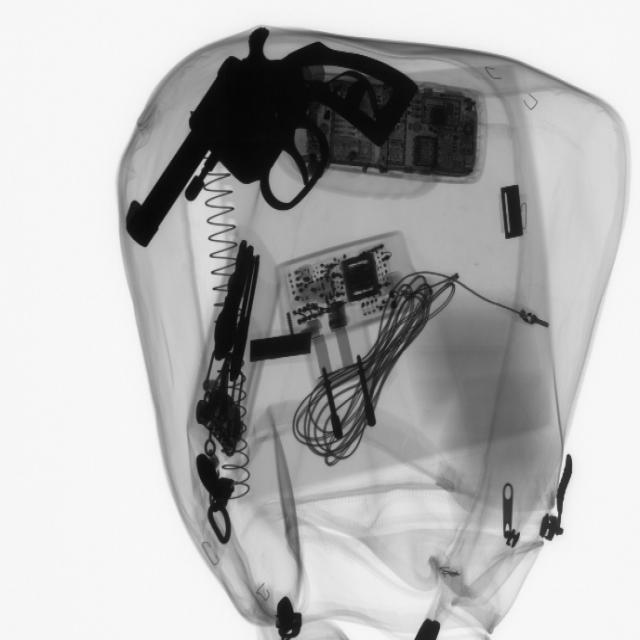GUN: (115, 28, 414, 258)
